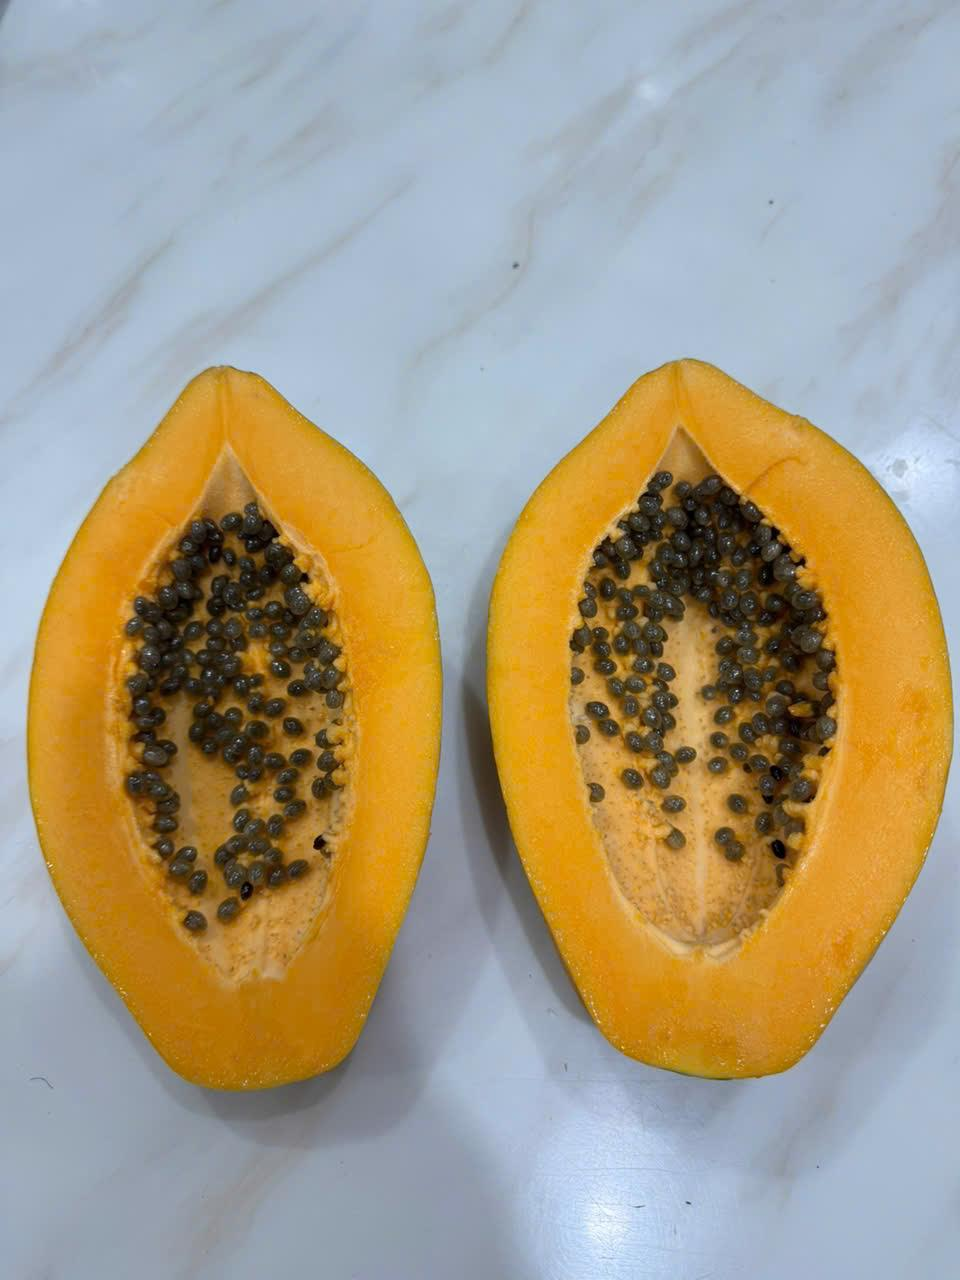papaya: (464, 338, 960, 1099), (10, 340, 458, 1112)
